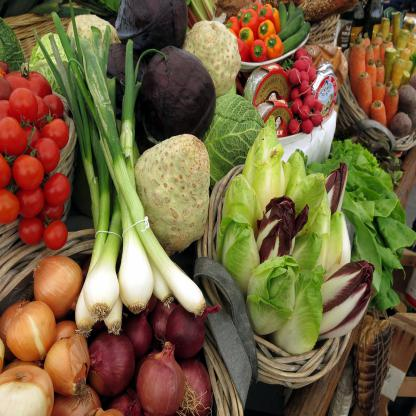onion: (137, 344, 183, 416), (87, 335, 135, 399), (35, 254, 83, 317), (9, 299, 56, 363), (0, 361, 53, 416), (165, 303, 214, 358), (44, 341, 87, 394), (176, 356, 213, 416)
tomato: (0, 116, 29, 154), (13, 154, 44, 189), (40, 114, 69, 149), (10, 86, 37, 123), (32, 137, 59, 172), (16, 188, 44, 218), (44, 174, 70, 204), (18, 217, 45, 244), (42, 220, 67, 249), (0, 186, 18, 225)
